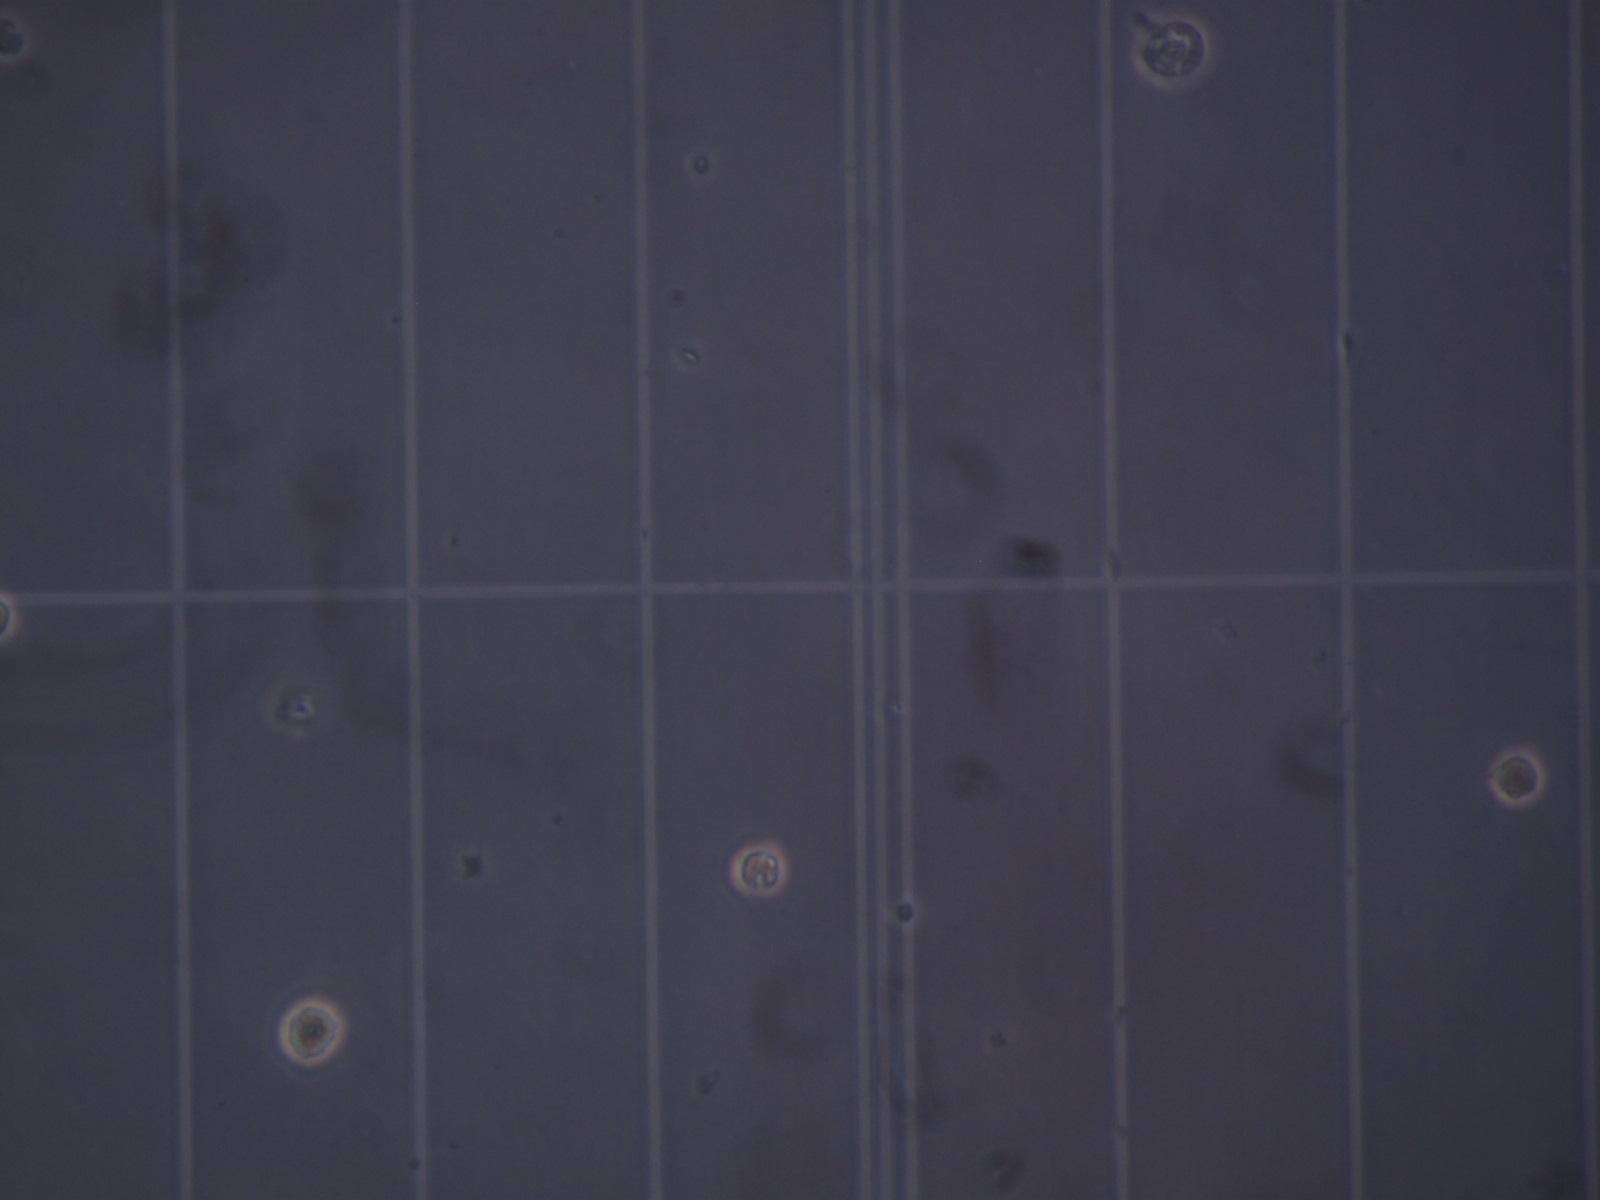hemo: (1133, 18, 1211, 89), (278, 998, 344, 1066), (1489, 747, 1545, 807), (729, 842, 787, 897), (1, 10, 31, 63), (1, 590, 18, 648)
